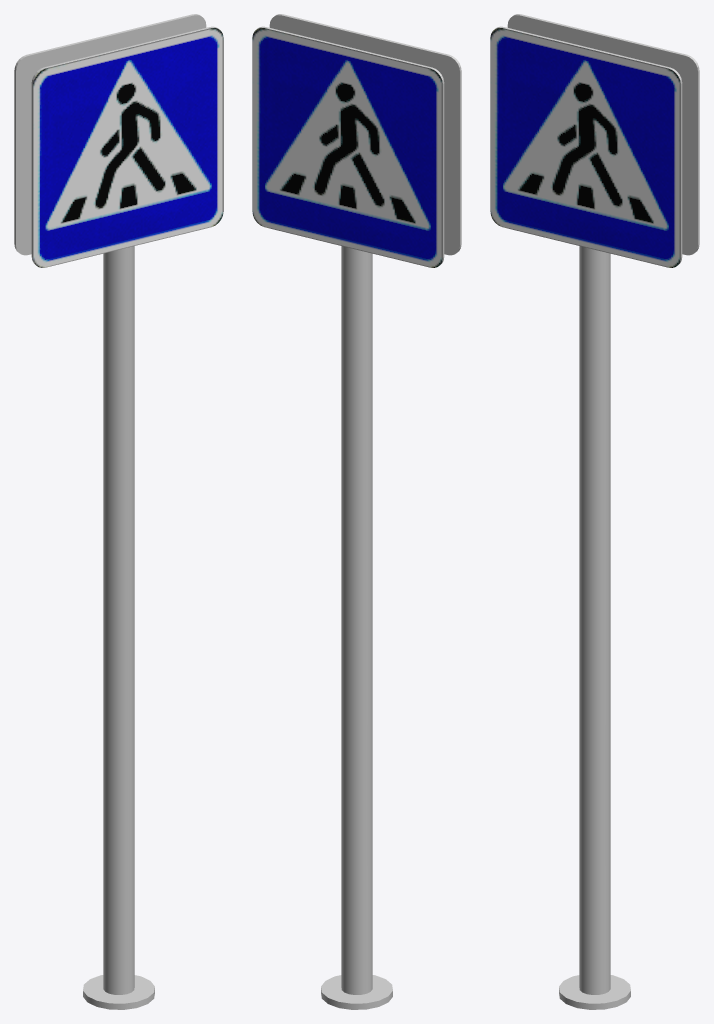
The picture shows the model from 3 angles, left to right: view 1: azimuth 30°, elevation 25°; view 2: azimuth 150°, elevation 25°; view 3: azimuth 330°, elevation 25°; orthographic projection.
Visible parts, largest first — view 1: 5-19; view 2: 5-19; view 3: 5-19.
Boxes of the visible parts, x1,y1,x2,y2 form: 5-19: [14, 14, 223, 1009]; 5-19: [252, 14, 461, 1009]; 5-19: [490, 14, 699, 1009].
Size of the model in its own units: 70 by 335 by 23.17.
2 materials, 1 textured.
